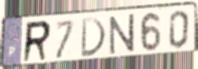0: (167, 9, 190, 51)
6: (139, 11, 162, 53)
7: (56, 18, 76, 60)
D: (80, 16, 108, 59)
N: (109, 12, 136, 57)
R: (21, 20, 53, 65)
